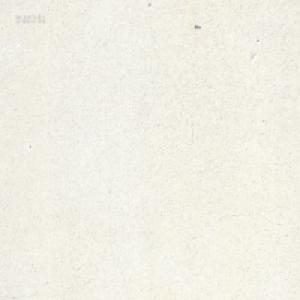Nail: (194, 23, 200, 28)
